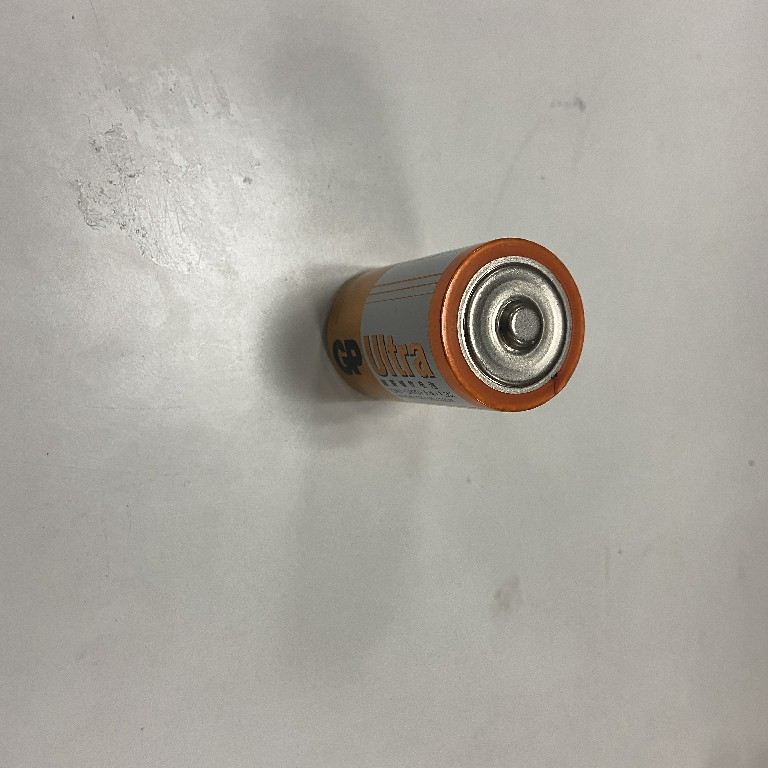charge: (316, 233, 592, 422)
